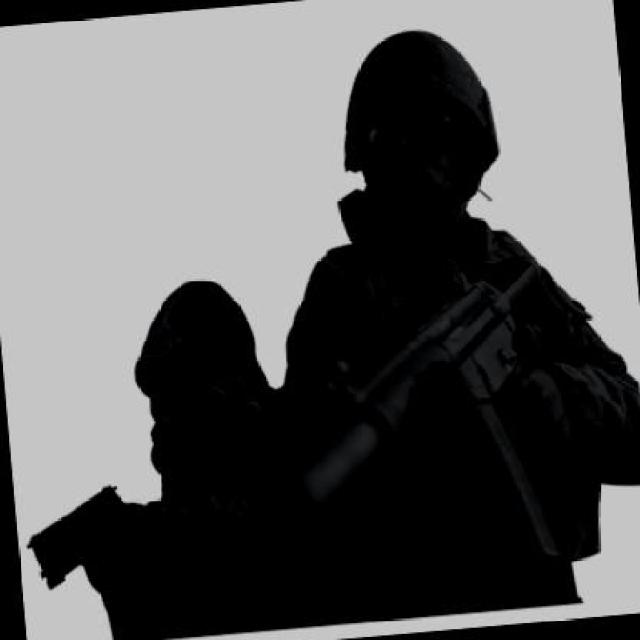MIL_Pax: (246, 8, 639, 626), (52, 270, 302, 638)
